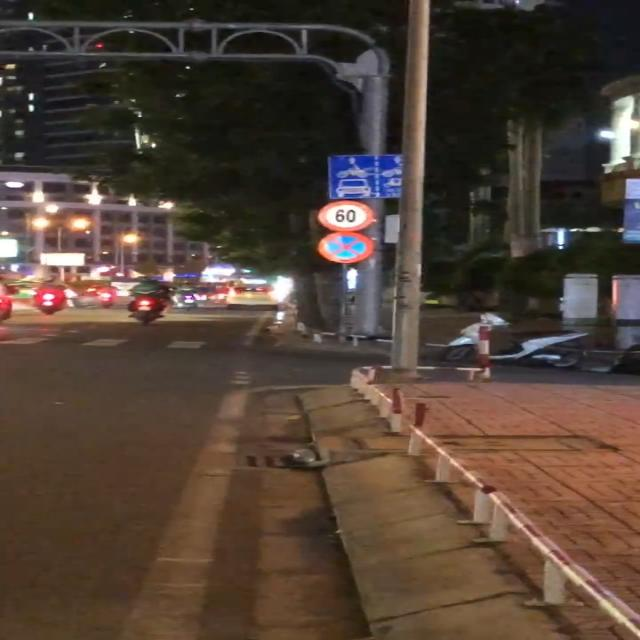Bien bao cam dung xe va do xe: (316, 231, 378, 266)
Bien bao toc do toi da cho phep: (316, 198, 379, 233)
